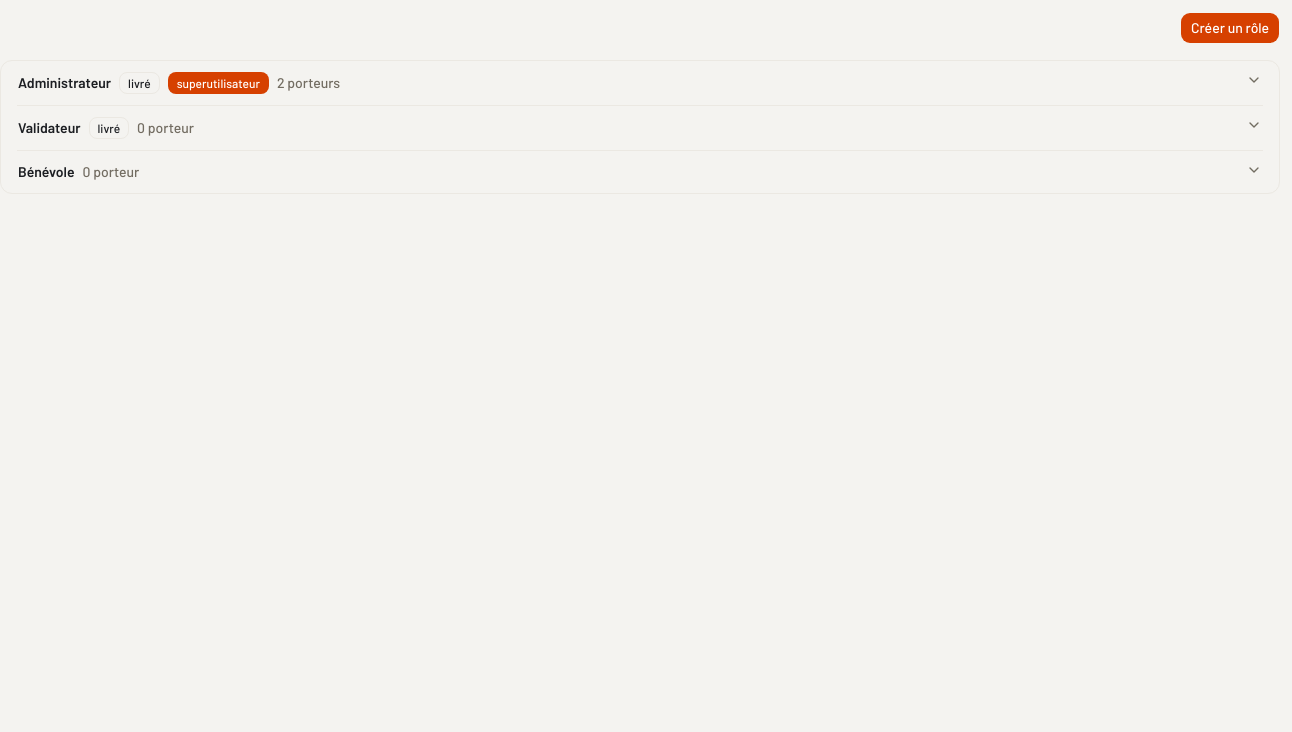
Scenario: RolePermissionsEditor — lecture › présente `is_superuser` comme un statut, pas comme des cases cochées
The width and height of the screenshot is (1292, 732).
Click the button "Administrateur livré superutilisateur 2 porteurs" at (65, 82), box [17,61,1263,105]
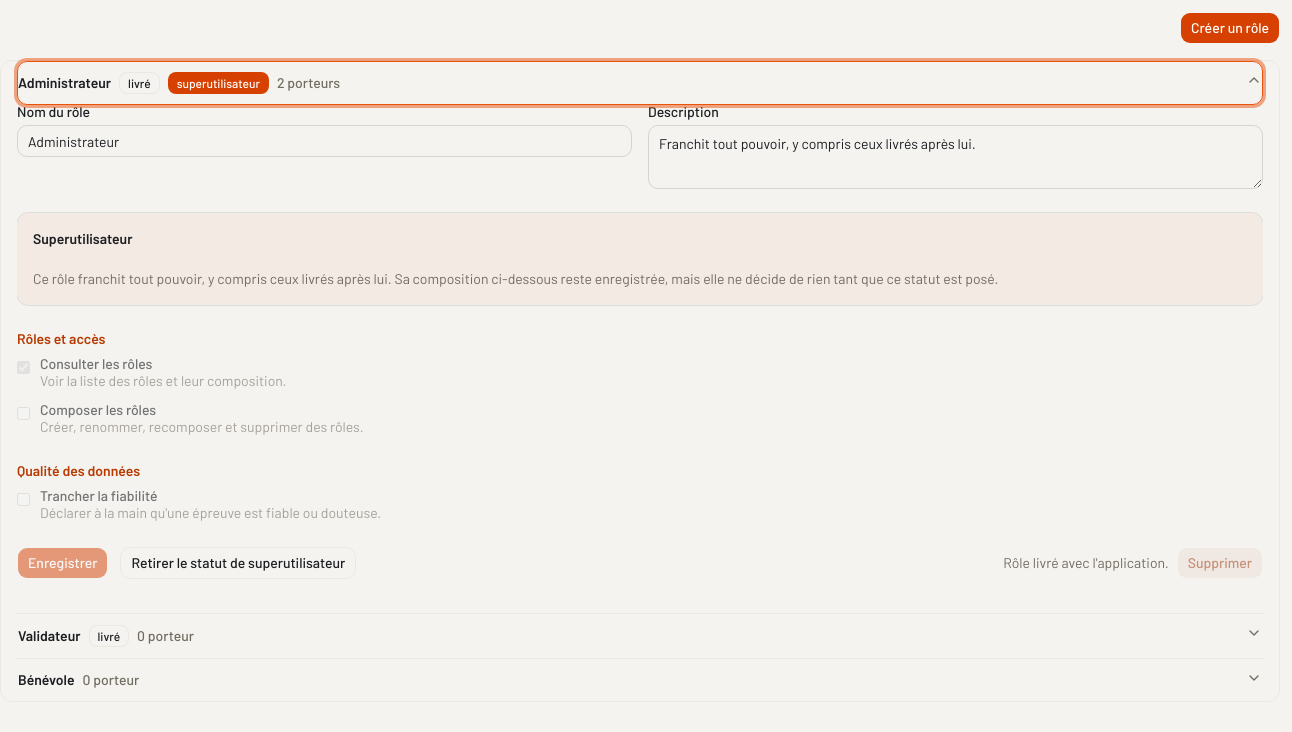
Expected: the text "Superutilisateur" is shown, [33,230,132,247]
Expected: the text "ne décide de rien" is shown, [33,270,998,287]
